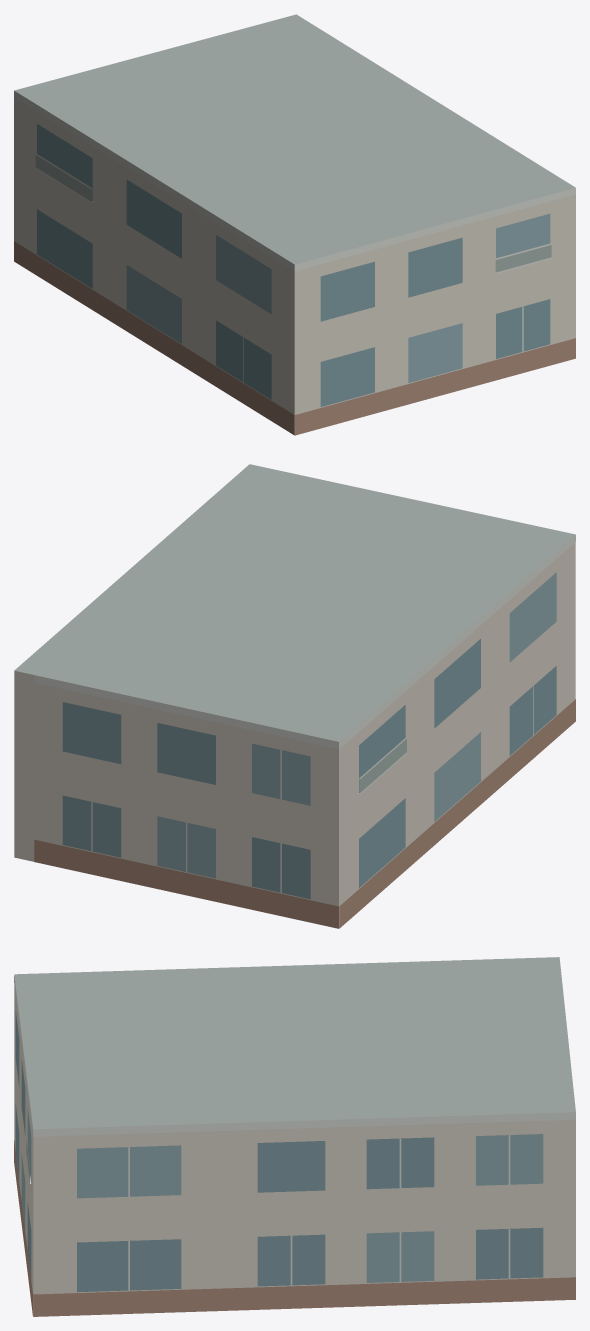
File: survey-upis-32467234.glb
3 renders of one model, top to bottom at view 1: azimuth 30°, elevation 25°; view 2: azimuth 150°, elevation 25°; view 3: azimuth 270°, elevation 25°, orthographic. The views are drawn at different scales.
Visible parts, largest first — view 1: survey-upis-32467234.tmp; view 2: survey-upis-32467234.tmp; view 3: survey-upis-32467234.tmp.
Boxes of the visible parts, <box> form: survey-upis-32467234.tmp: <box>14,14,575,435</box>; survey-upis-32467234.tmp: <box>14,464,575,928</box>; survey-upis-32467234.tmp: <box>14,957,575,1316</box>.
Size of the model in its own units: 12.03 by 6.1 by 16.57.
